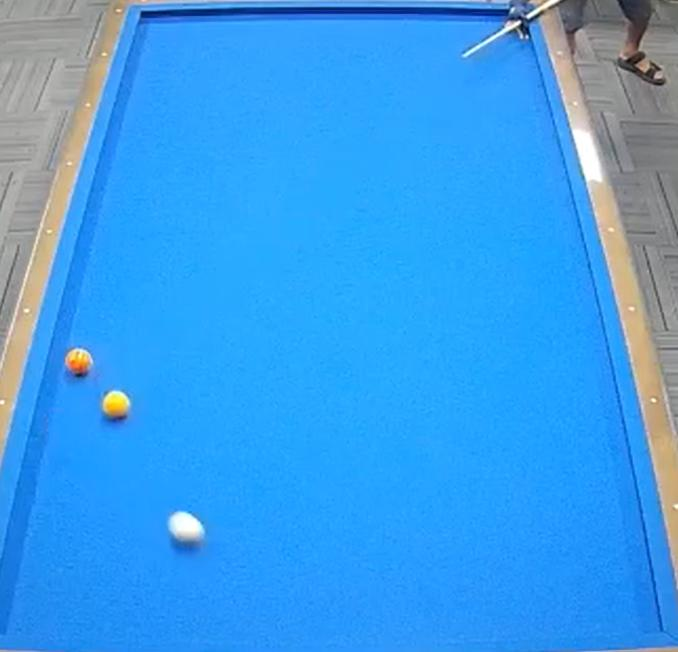orange ball: (61, 340, 94, 383)
white ball: (166, 509, 212, 561)
yellow ball: (97, 384, 135, 424)
